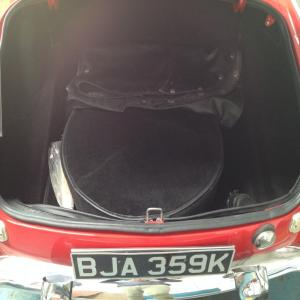Vehicle-registration-plate: (70, 247, 237, 281)
